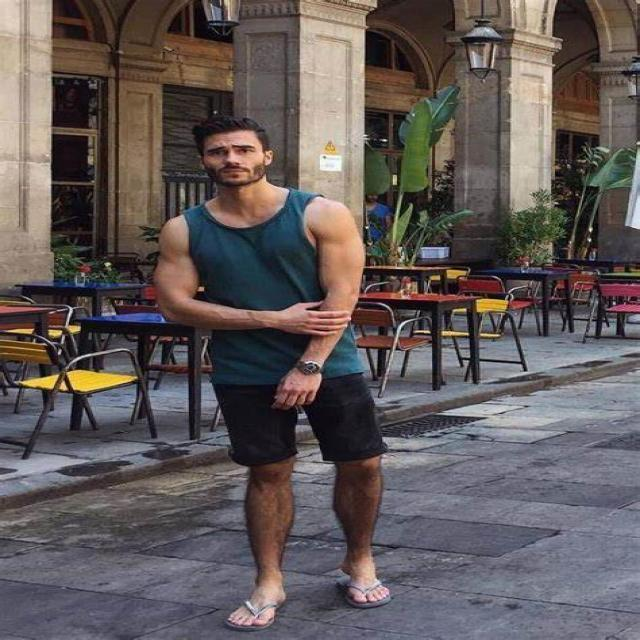No_Shoe: (230, 574, 286, 632), (343, 558, 391, 607)
Person: (174, 113, 385, 634)
